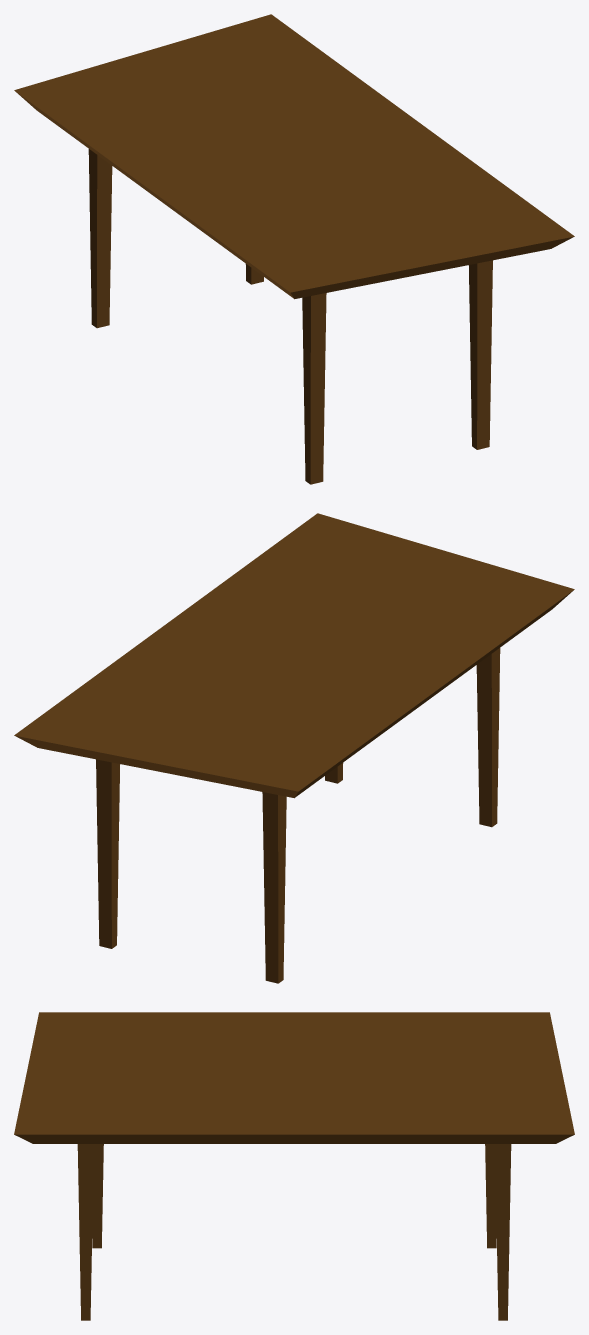
The model's file is Prop_DiningTable.FBX.
3 renders of one model, top to bottom at view 1: azimuth 30°, elevation 25°; view 2: azimuth 150°, elevation 25°; view 3: azimuth 270°, elevation 25°, orthographic. The views are drawn at different scales.
Visible parts, largest first — view 1: Box001; view 2: Box001; view 3: Box001.
Part boxes in pixels (<box>): Box001: <box>14,14,574,484</box>; Box001: <box>14,513,574,983</box>; Box001: <box>14,1012,574,1320</box>.
Size of the model in its own units: 102 by 198 by 81.
